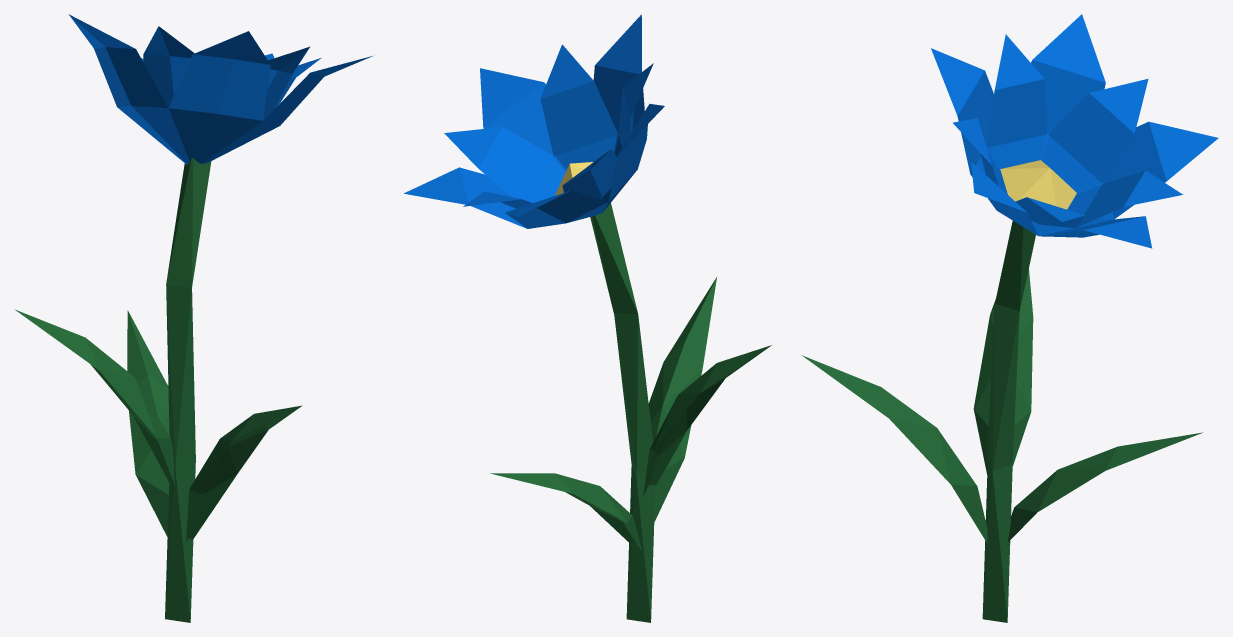
Rendered from Prop_Flower_Lily_Blue.obj.
The picture shows the model from 3 angles, left to right: view 1: azimuth 30°, elevation 25°; view 2: azimuth 150°, elevation 25°; view 3: azimuth 270°, elevation 25°; orthographic projection. The views are drawn at different scales.
Parts seen in each view (by area): view 1: object7, object5, object4, object10, object11, object16, object1, object9, object15, object12, object17; view 2: object17, object6, object11, object12, object4, object16, object1, object7, object10, object9, object3, object13 (+4 smaller); view 3: object8, object15, object11, object5, object4, object13, object16, object1, object10, object7, object14, object2 (+5 smaller).
Boxes of the visible parts, left/top/right/bottom form: object7: left=168, top=31, right=270, bottom=163; object5: left=68, top=14, right=189, bottom=164; object4: left=166, top=284, right=195, bottom=467; object10: left=127, top=310, right=169, bottom=536; object11: left=186, top=405, right=302, bottom=540; object16: left=14, top=309, right=175, bottom=485; object1: left=165, top=459, right=195, bottom=622; object9: left=166, top=158, right=211, bottom=287; object15: left=143, top=26, right=194, bottom=107; object12: left=203, top=56, right=372, bottom=163; object17: left=263, top=46, right=310, bottom=120; object17: left=540, top=44, right=617, bottom=169; object6: left=444, top=127, right=565, bottom=202; object11: left=648, top=277, right=716, bottom=521; object12: left=480, top=68, right=566, bottom=171; object4: left=614, top=313, right=652, bottom=475; object16: left=643, top=345, right=771, bottom=496; object1: left=626, top=465, right=655, bottom=622; object7: left=593, top=14, right=644, bottom=153; object10: left=490, top=473, right=641, bottom=550; object9: left=590, top=203, right=637, bottom=314; object3: left=404, top=167, right=526, bottom=228; object13: left=505, top=190, right=608, bottom=228; object8: left=1041, top=78, right=1148, bottom=192; object15: left=987, top=34, right=1047, bottom=168; object11: left=801, top=355, right=987, bottom=543; object5: left=1031, top=14, right=1105, bottom=160; object4: left=987, top=304, right=1019, bottom=471; object13: left=1076, top=121, right=1218, bottom=219; object16: left=973, top=269, right=1033, bottom=474; object1: left=982, top=462, right=1012, bottom=622; object10: left=1007, top=432, right=1202, bottom=542; object7: left=931, top=48, right=1000, bottom=174; object14: left=1067, top=170, right=1182, bottom=227; object2: left=1000, top=160, right=1076, bottom=209.
Bounding box in the file's own units: 0.3218 × 0.5545 × 0.3582.
